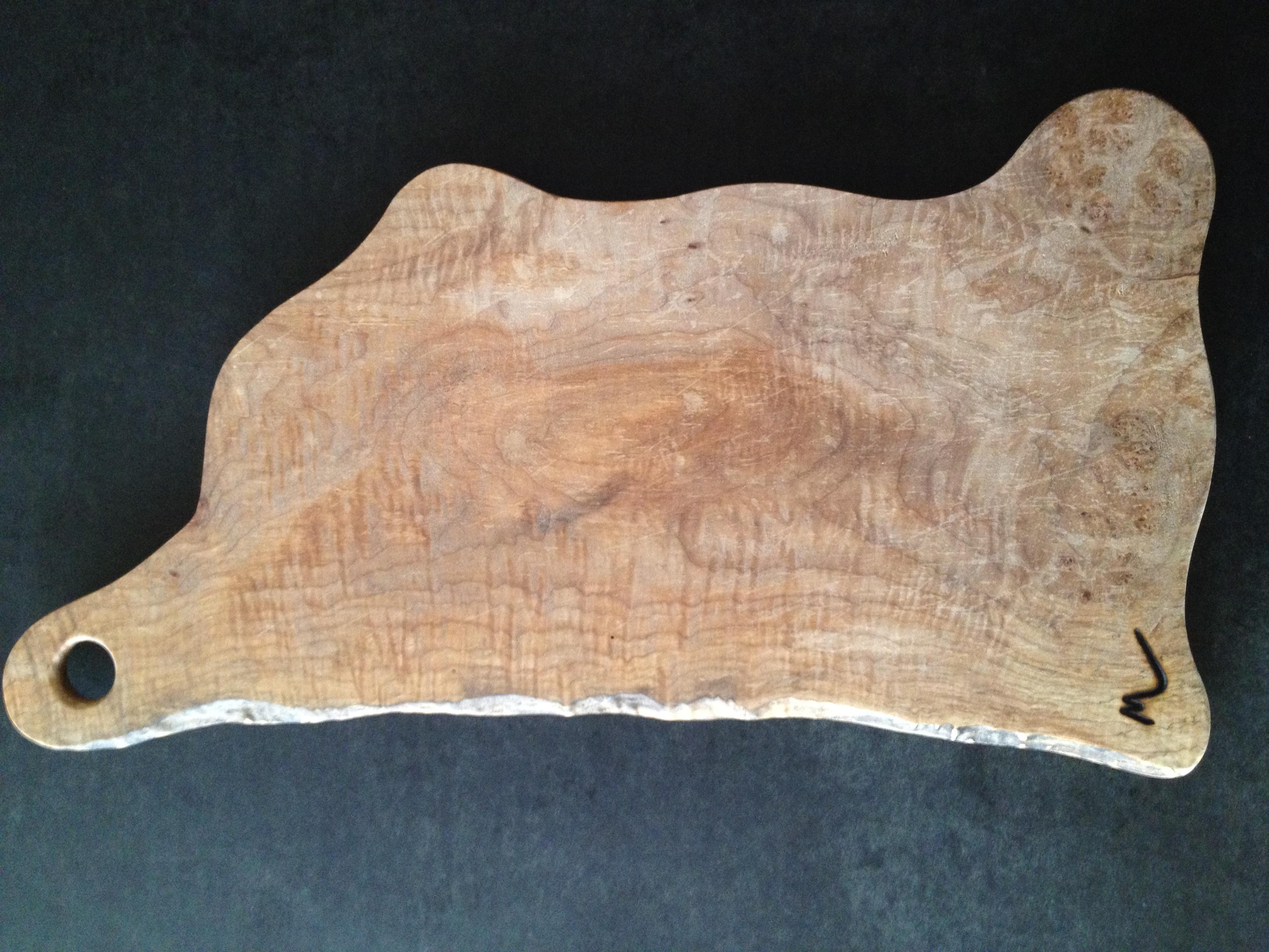gloved_hand: (24, 156, 1269, 874)
